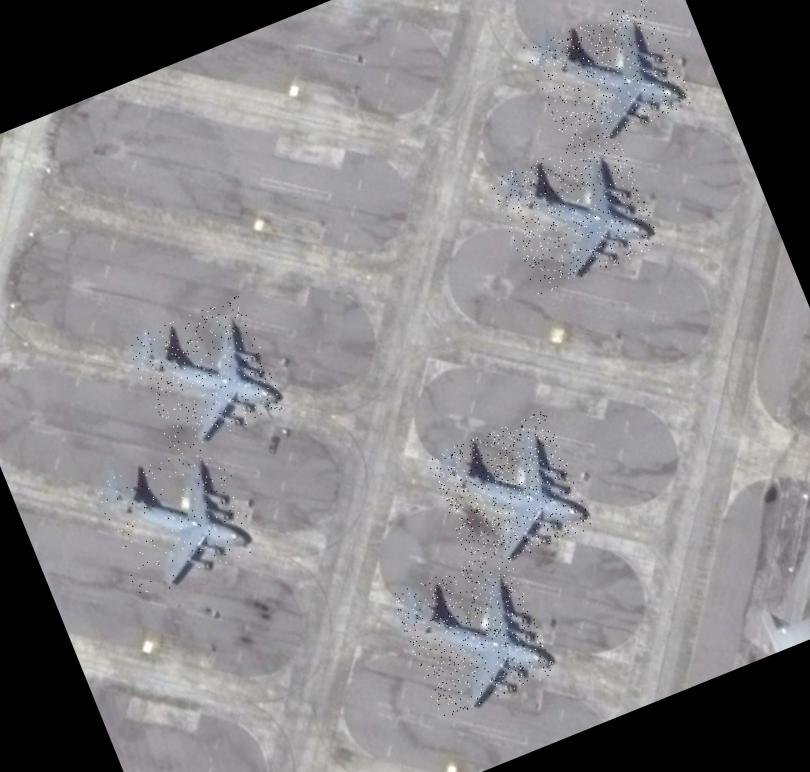A3: (489, 127, 664, 296), (390, 548, 558, 720), (425, 409, 594, 575), (93, 434, 262, 600), (524, 0, 694, 154), (126, 294, 286, 454)
